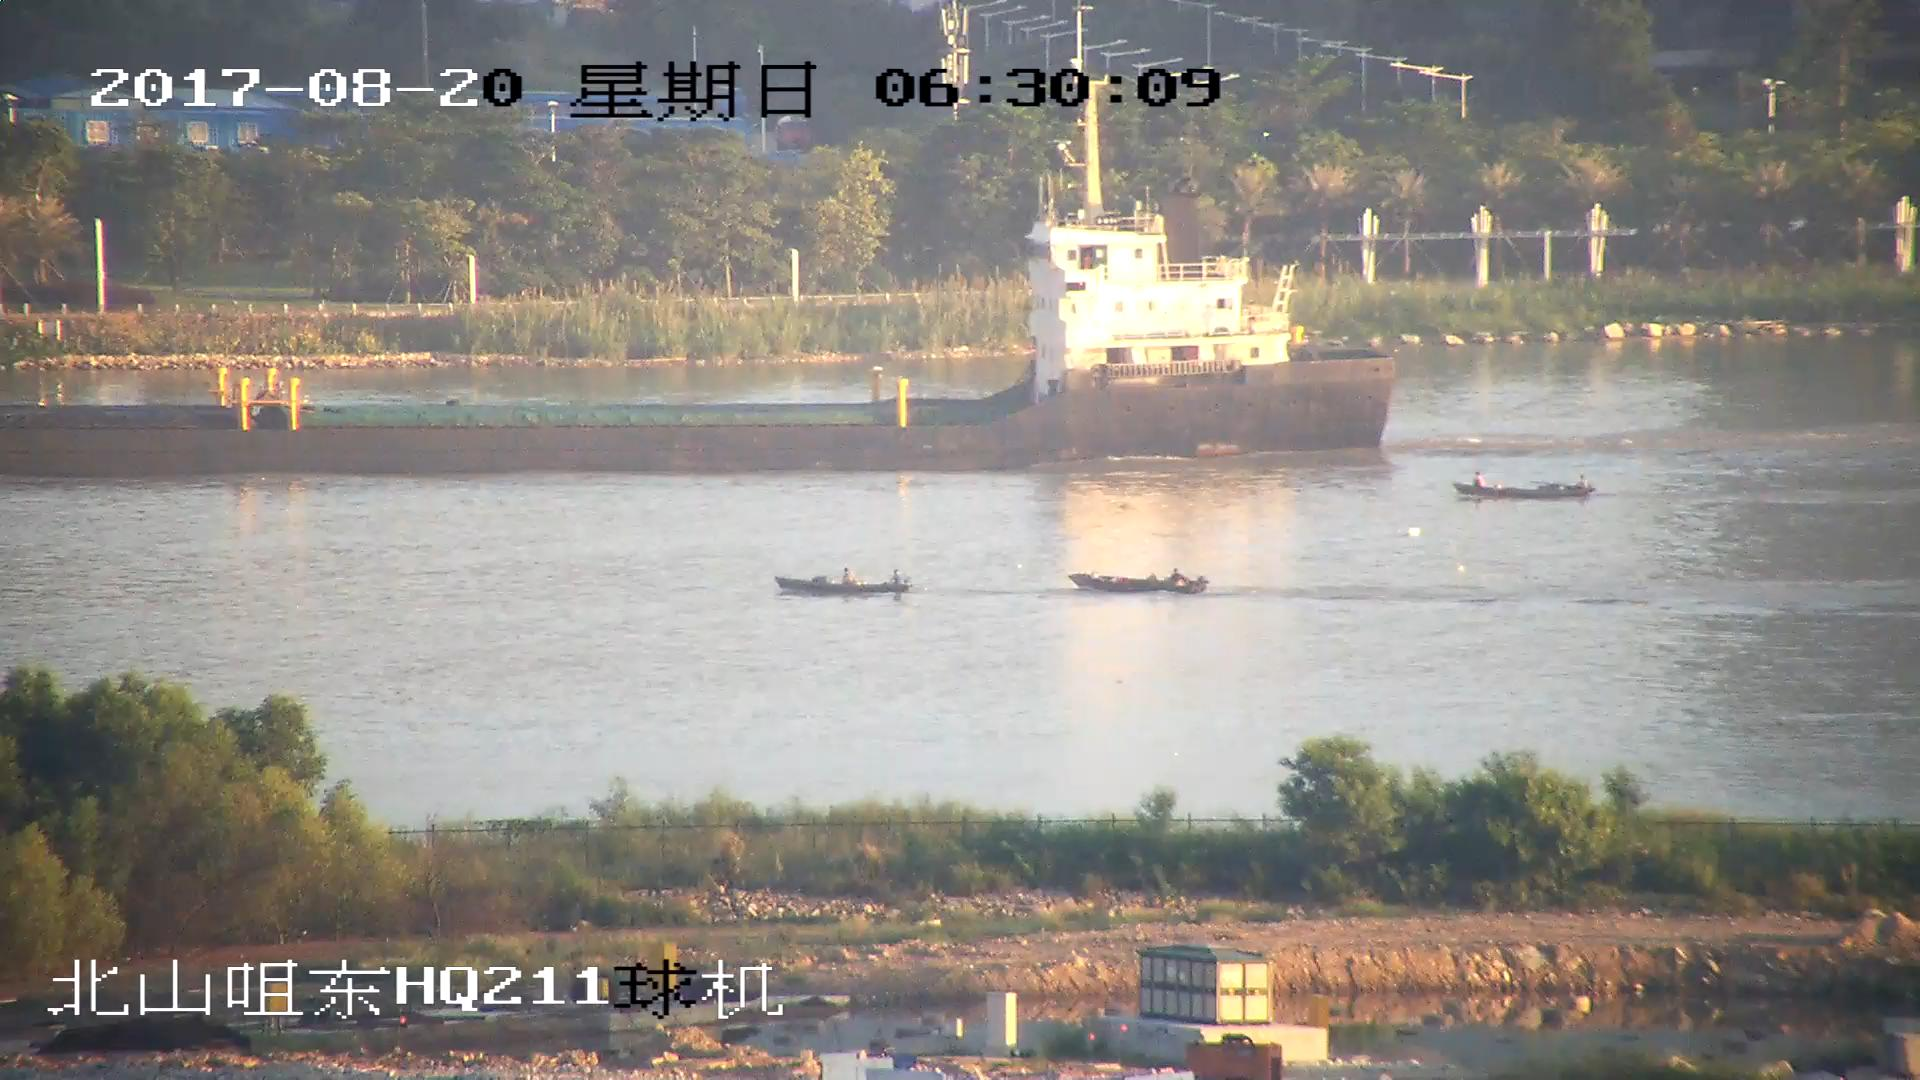fishing boat: (1459, 472, 1595, 506), (1071, 568, 1205, 600), (779, 570, 911, 600)
general cargo ship: (1, 120, 1397, 468)
